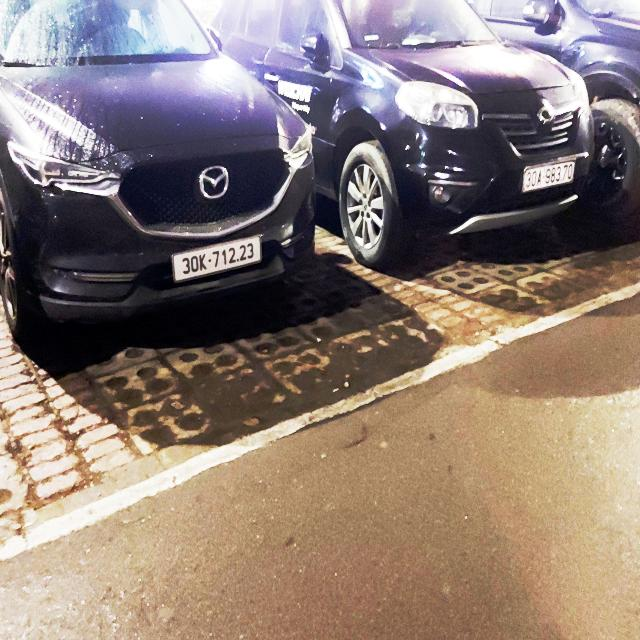license_plate: (171, 234, 264, 285), (521, 161, 577, 196)
